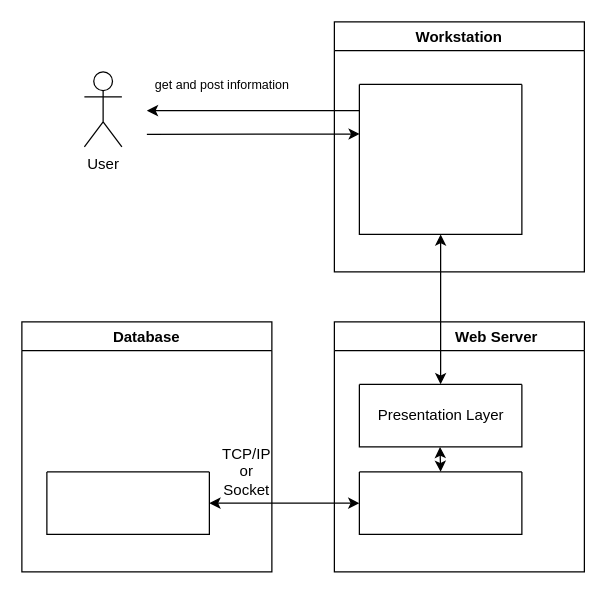
Image size: 606x594. Some labels were removed from this diagram. The shapes that lost their labels are listed below. From the top down, each one's centre as x and y in pixels, then its label:
(440,158): Web browser
(127,502): Information
(440,502): ORM
